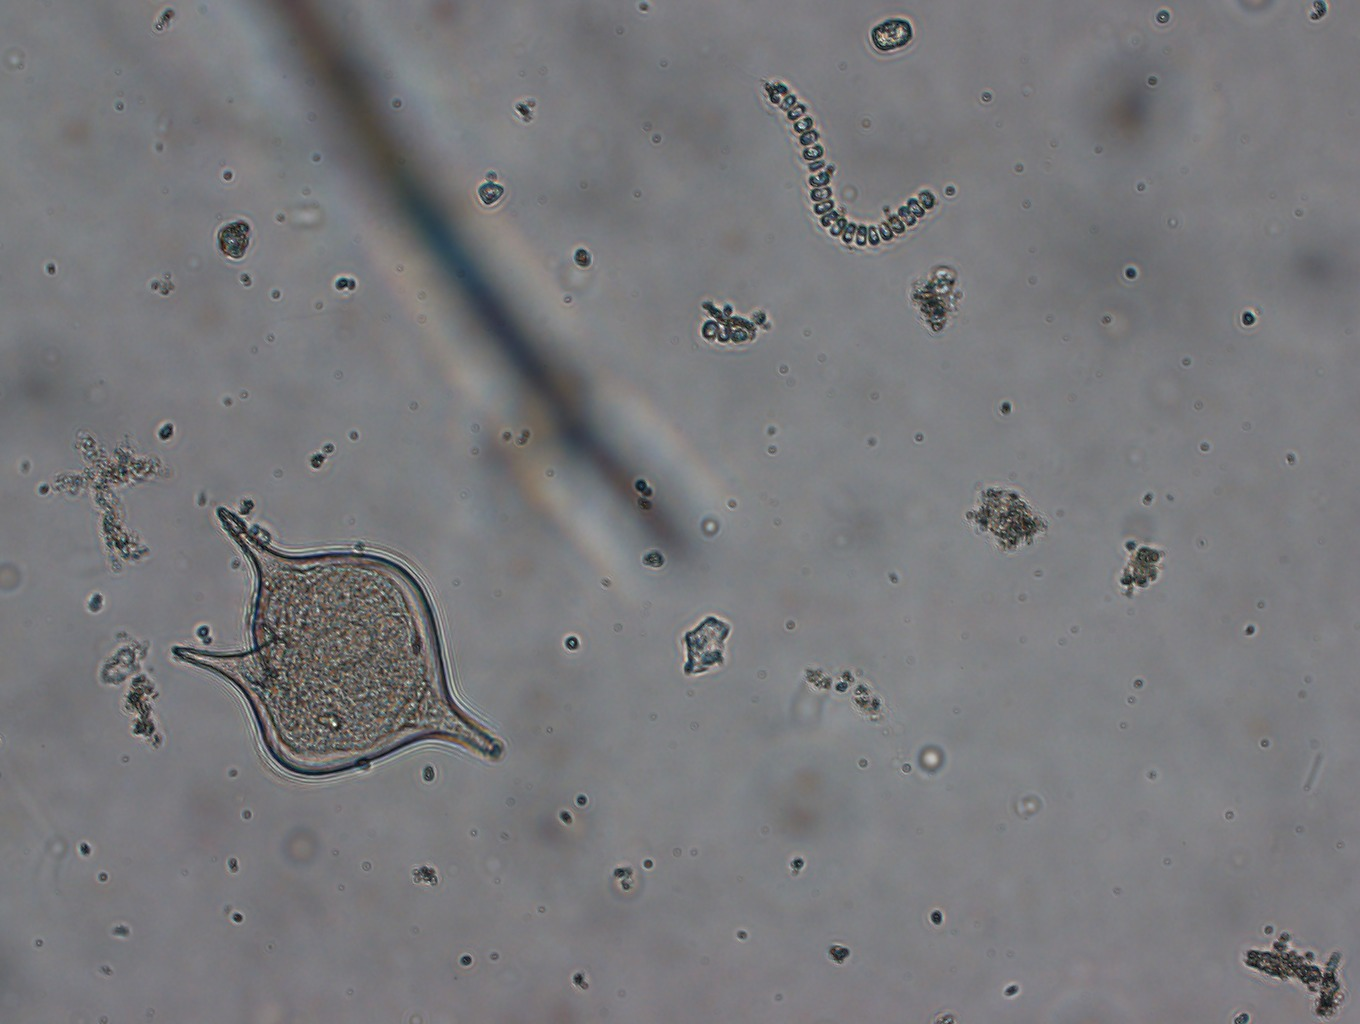ceratium furca: (164, 492, 510, 778)
skeletonema: (746, 85, 943, 254)
